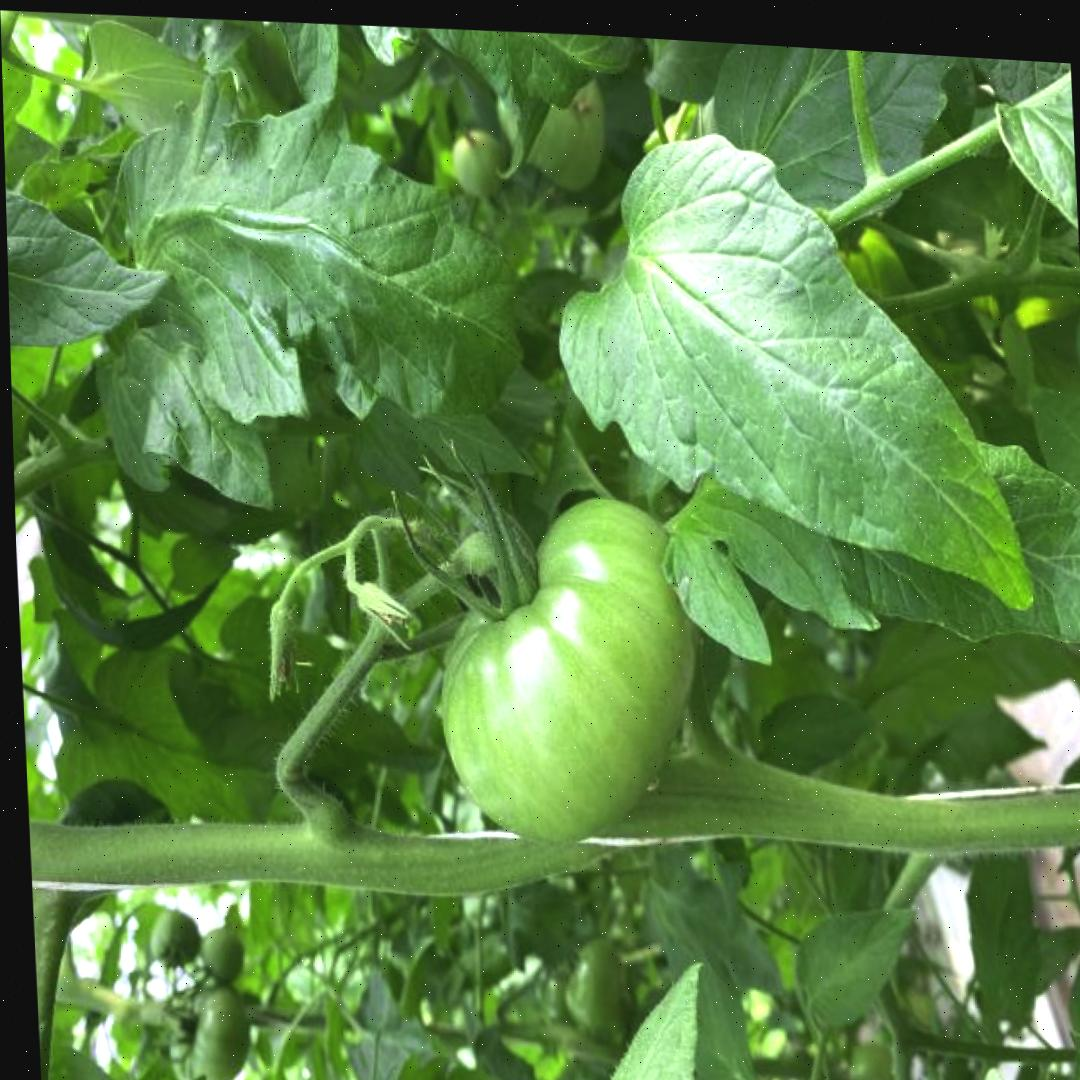mentah: (436, 483, 714, 852)
